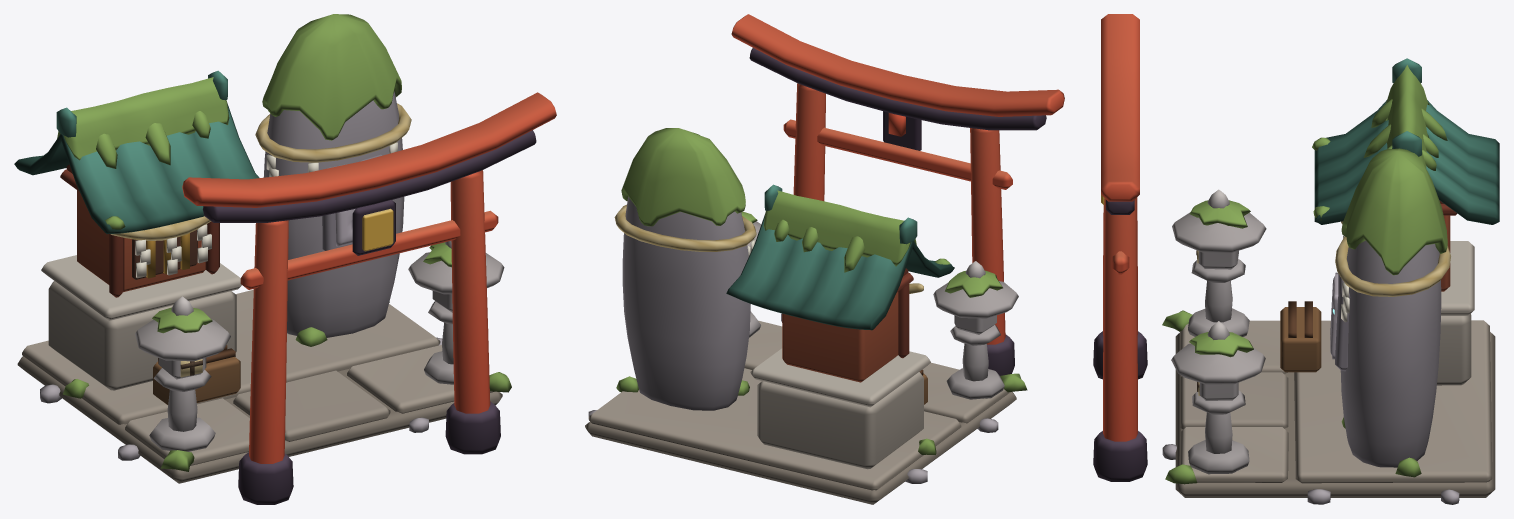
Rendered from waystone.glb.
The picture shows the model from 3 angles, left to right: view 1: azimuth 30°, elevation 25°; view 2: azimuth 150°, elevation 25°; view 3: azimuth 270°, elevation 25°; orthographic projection. The views are drawn at different scales.
Parts seen in each view (by area): view 1: waystone; view 2: waystone; view 3: waystone.
Boxes of the visible parts, x1,y1,x2,y2 form: waystone: (14,14,556,504); waystone: (585,14,1064,504); waystone: (1093,14,1499,504).
Size of the model in its own units: 2 by 1.75 by 1.98.
